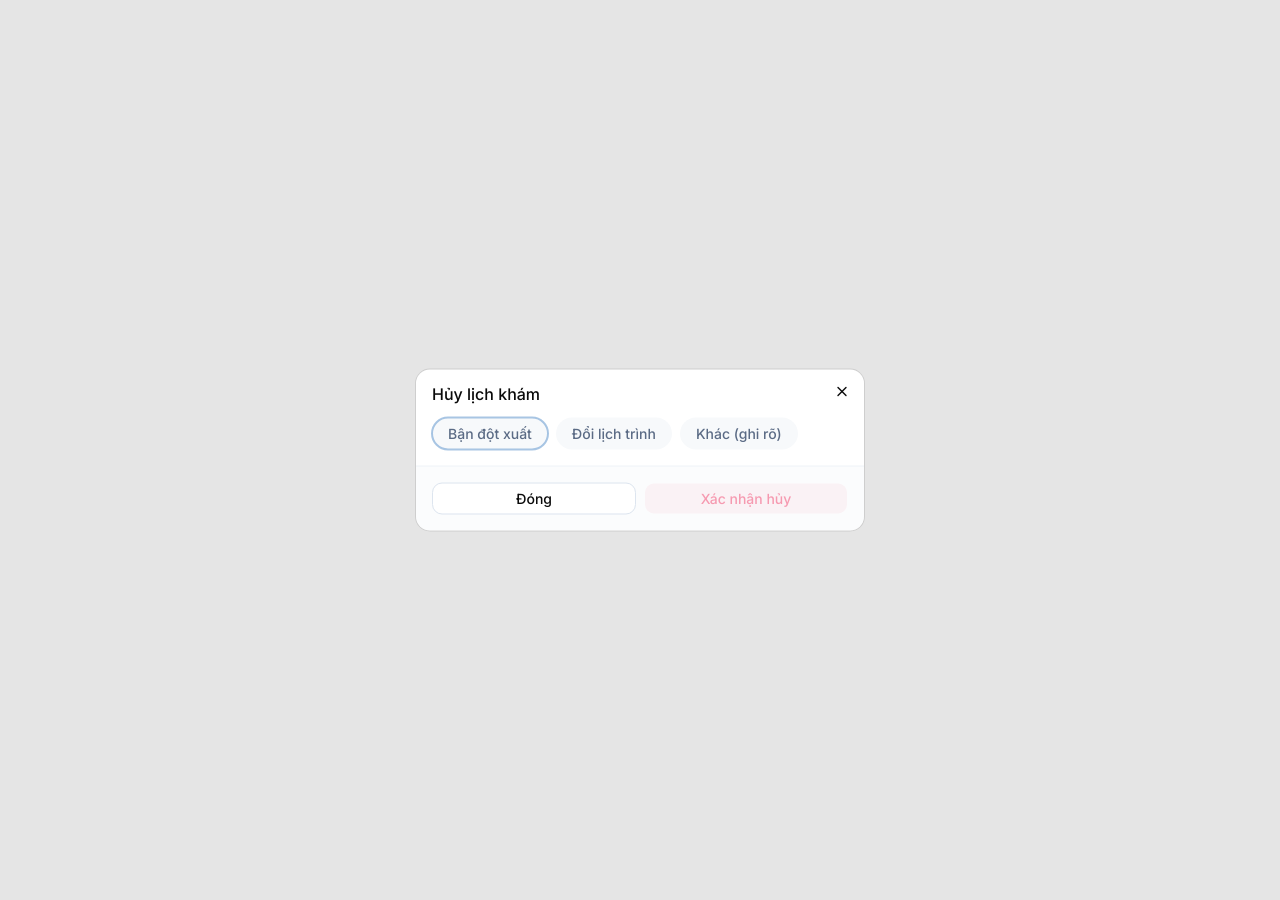
Test case: CancelAppointmentDialog › nút 'Xác nhận hủy' enabled sau khi chọn preset 'Bận đột xuất'
Click the button "Bận đột xuất": (490, 434) [432,418,548,450]
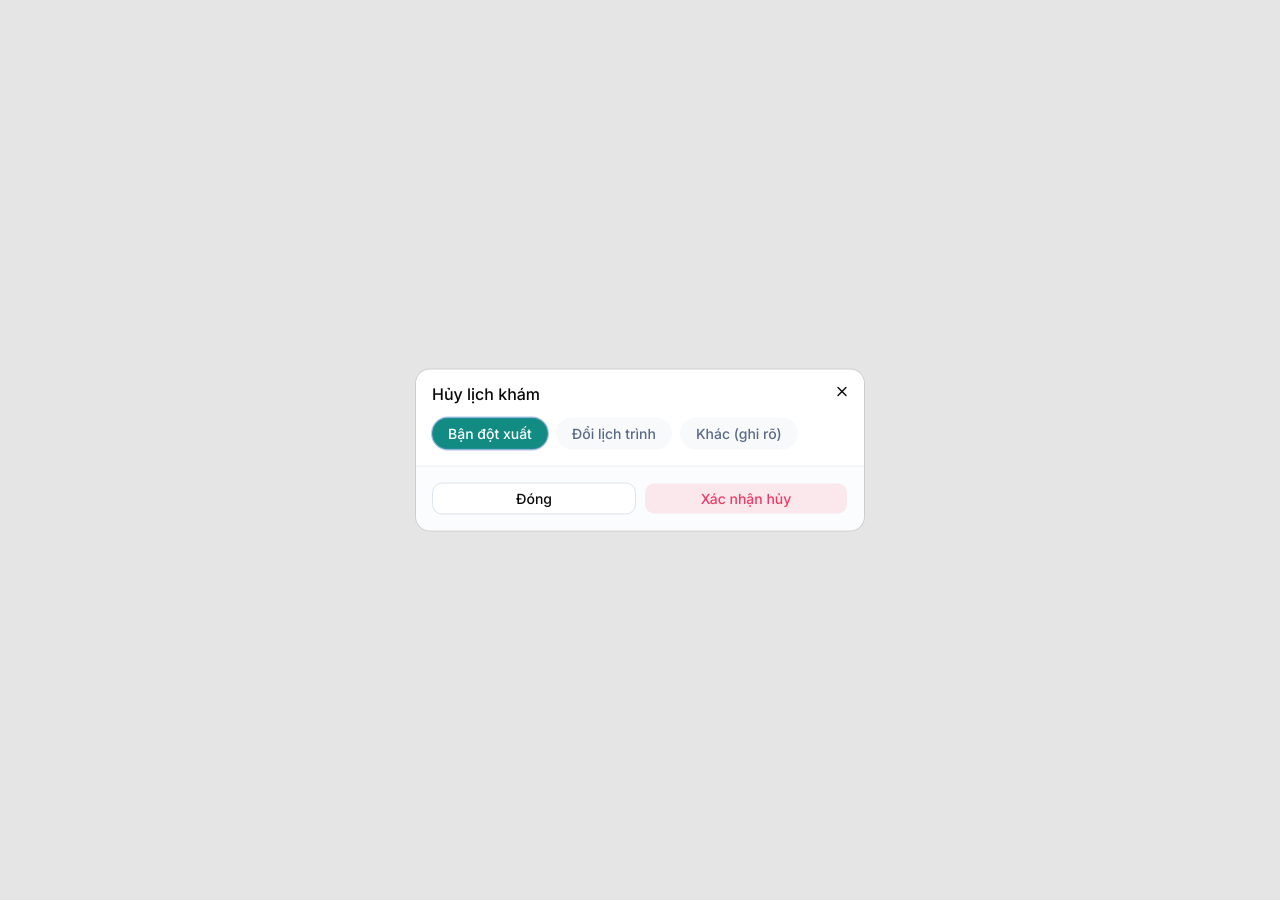
Check: the button with test id "confirm-cancel-button" is enabled, box [644,482,848,514]
